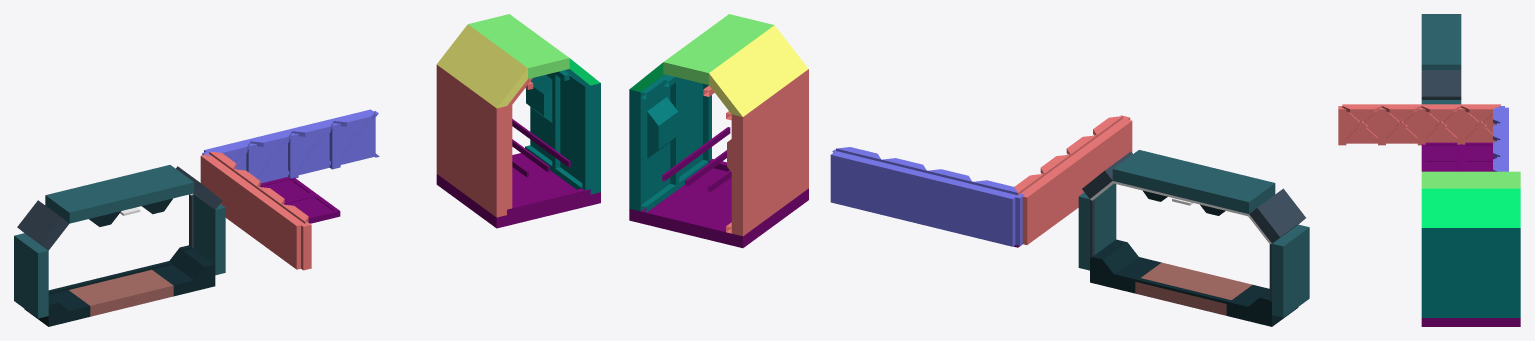
File: Mesh_Passage_A_All.fbx
3 renders of one model, left to right at view 1: azimuth 30°, elevation 25°; view 2: azimuth 150°, elevation 25°; view 3: azimuth 270°, elevation 25°, orthographic. The views are drawn at different scales.
Parts seen in each view (by area): view 1: Passage_A, Passage_C, Passage_B, Floor_B; view 2: Passage_A, Passage_C, Passage_B; view 3: Passage_A, Passage_B, Passage_C, Floor_B.
Boxes of the visible parts, <box> form: Passage_A: <box>436,14,600,228</box>; Passage_C: <box>14,165,225,326</box>; Passage_B: <box>200,109,379,270</box>; Floor_B: <box>260,177,340,223</box>; Passage_A: <box>629,14,808,248</box>; Passage_C: <box>1078,150,1309,326</box>; Passage_B: <box>830,115,1132,246</box>; Passage_A: <box>1421,171,1520,326</box>; Passage_B: <box>1338,104,1508,171</box>; Passage_C: <box>1421,14,1461,104</box>; Floor_B: <box>1421,142,1495,171</box>.
Size of the model in its own units: 5400 by 1400 by 1840.
